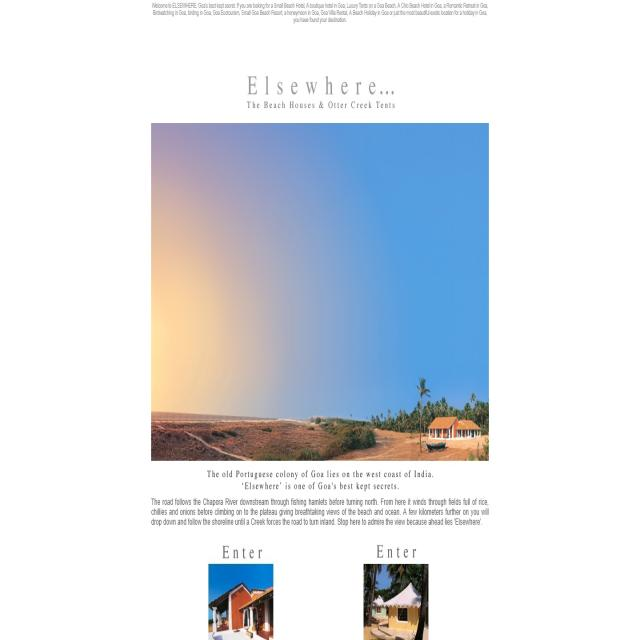heading: (246, 73, 397, 99), (220, 540, 265, 562), (376, 542, 420, 564)
image: (152, 123, 489, 461), (208, 563, 274, 640), (363, 563, 429, 640)
text: (150, 495, 495, 532), (148, 0, 491, 23), (206, 466, 433, 492), (247, 101, 400, 113)
